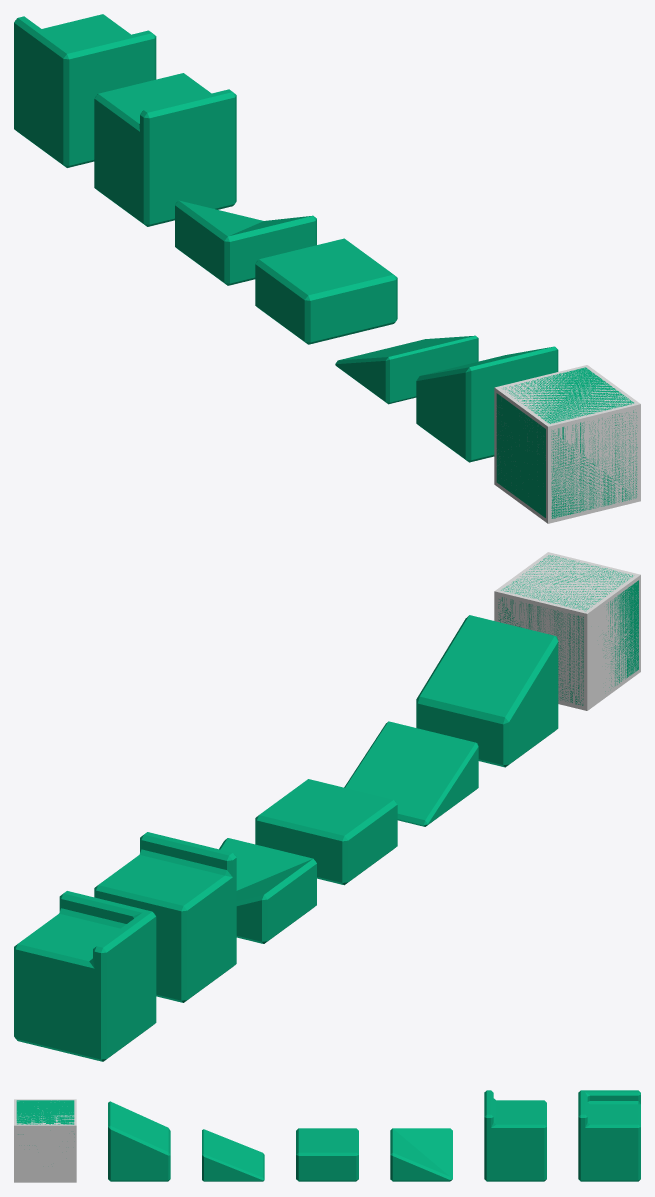
Rendered from platformer_blocks.glb.
3 renders of one model, top to bottom at view 1: azimuth 30°, elevation 25°; view 2: azimuth 150°, elevation 25°; view 3: azimuth 270°, elevation 25°, orthographic. The views are drawn at different scales.
Parts seen in each view (by area): view 1: BlockWall, BlockWallCorner, Block - colonly, Block, HalfBlock, RampTop, RampLowerCorner, RampBottom; view 2: BlockWallCorner, RampTop, BlockWall, Block - colonly, HalfBlock, RampBottom, RampLowerCorner, Block; view 3: BlockWallCorner, BlockWall, RampTop, Block - colonly, HalfBlock, RampLowerCorner, RampBottom, Block.
Boxes of the visible parts, x1,y1,x2,y2 form: BlockWall: (94, 73, 236, 226); BlockWallCorner: (14, 14, 156, 167); Block - colonly: (494, 365, 640, 523); Block: (496, 367, 637, 518); HalfBlock: (255, 238, 397, 344); RampTop: (416, 346, 558, 462); RampLowerCorner: (175, 200, 316, 285); RampBottom: (335, 335, 478, 404); BlockWallCorner: (14, 891, 156, 1061); RampTop: (416, 615, 558, 767); BlockWall: (94, 832, 236, 1002); Block - colonly: (494, 552, 640, 710); HalfBlock: (255, 779, 397, 885); RampBottom: (344, 721, 478, 826); RampLowerCorner: (219, 838, 316, 943); Block: (498, 555, 638, 705); BlockWallCorner: (578, 1090, 640, 1181); BlockWall: (484, 1090, 546, 1181); RampTop: (108, 1101, 170, 1181); Block - colonly: (14, 1099, 76, 1182); HalfBlock: (296, 1128, 358, 1181); RampLowerCorner: (390, 1128, 452, 1181); RampBottom: (202, 1129, 264, 1181); Block: (16, 1100, 74, 1145).
Size of what is drawn, in the model's own units: 2 by 2.35 by 20.
